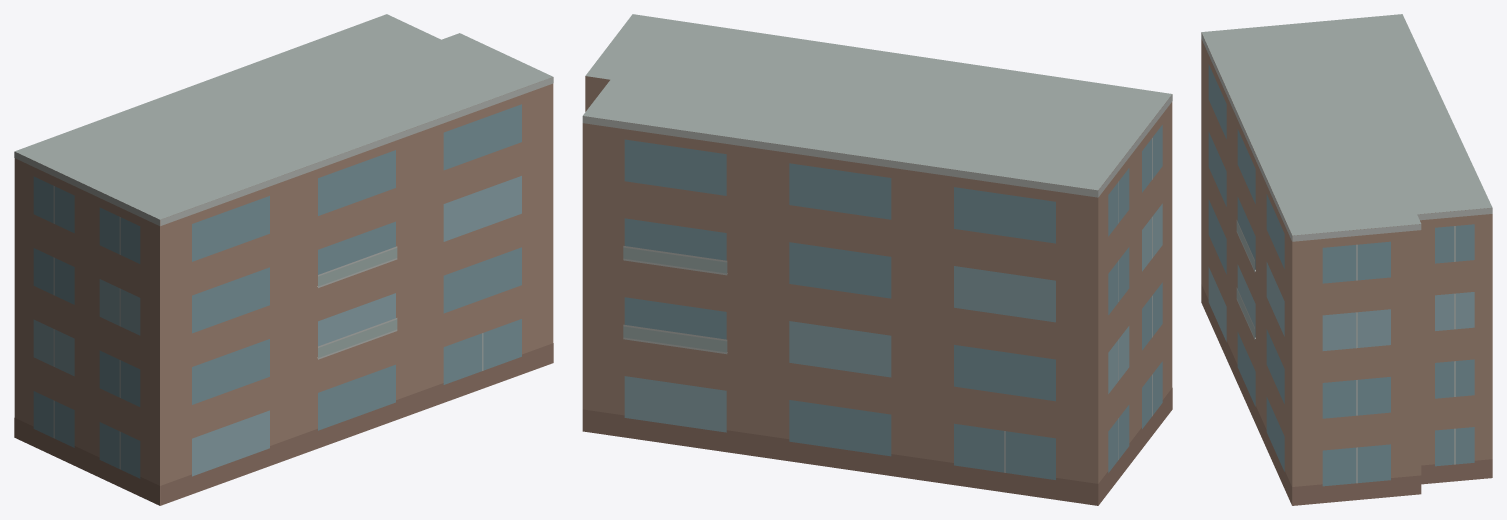
Rendered from survey-upis-32951054.glb.
3 renders of one model, left to right at view 1: azimuth 30°, elevation 25°; view 2: azimuth 150°, elevation 25°; view 3: azimuth 270°, elevation 25°, orthographic. The views are drawn at different scales.
Parts seen in each view (by area): view 1: survey-upis-32951054.tmp; view 2: survey-upis-32951054.tmp; view 3: survey-upis-32951054.tmp.
Boxes of the visible parts, x1,y1,x2,y2 form: survey-upis-32951054.tmp: (14, 14, 553, 505); survey-upis-32951054.tmp: (582, 14, 1172, 505); survey-upis-32951054.tmp: (1201, 14, 1492, 505).
Size of the model in its own units: 18.73 by 10.65 by 10.41.
